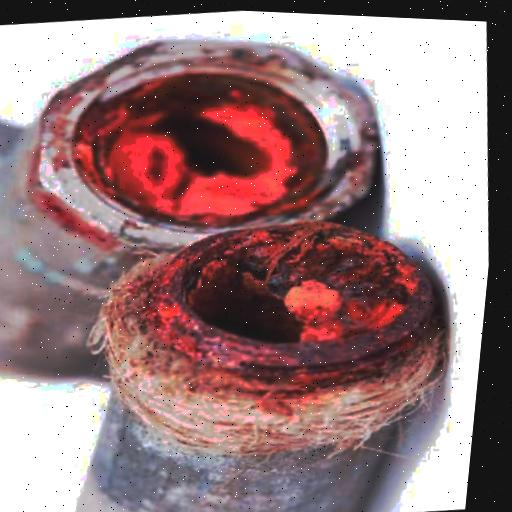corrosion: (132, 203, 460, 419), (52, 53, 337, 239)
